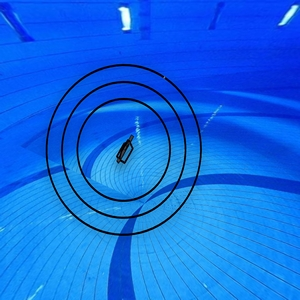circle: (44, 61, 209, 239)
submarine: (113, 131, 137, 166)
